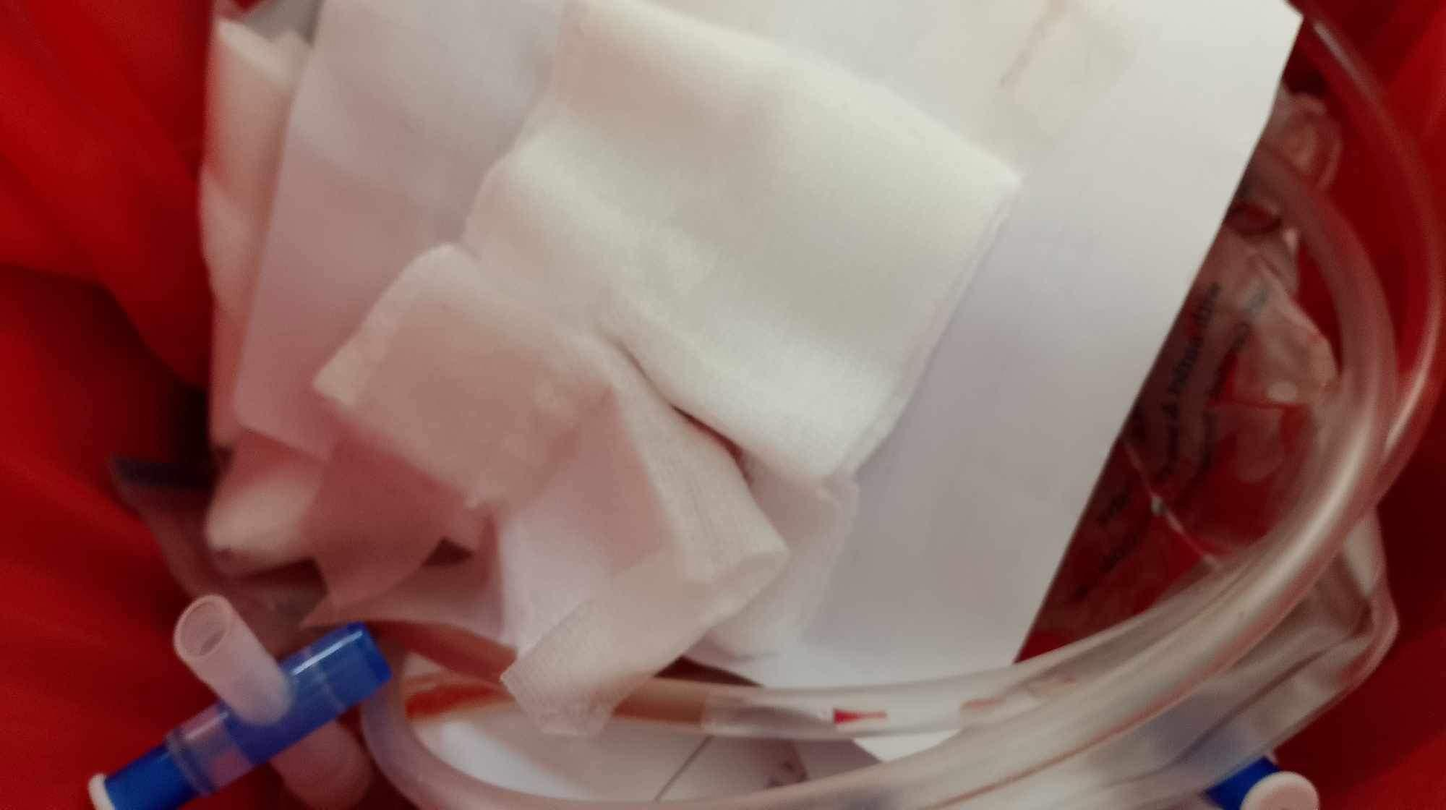General: (90, 3, 1437, 806)
Sharps: (86, 618, 393, 808)
